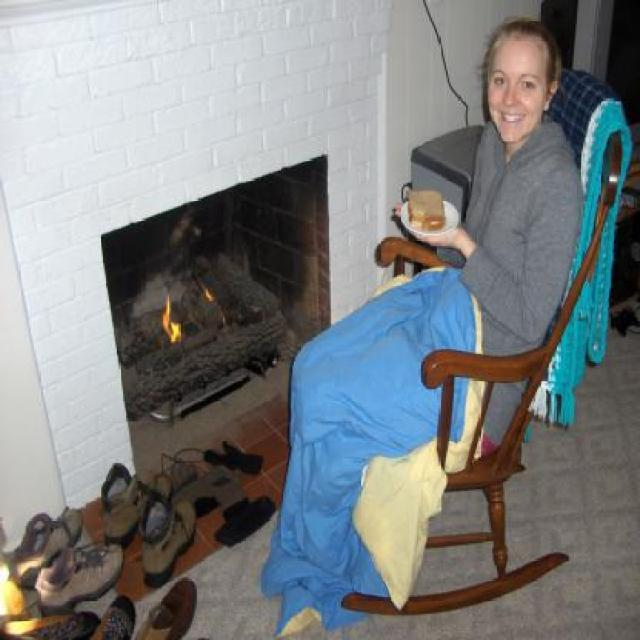Fire: (160, 293, 182, 342), (201, 283, 216, 305)
